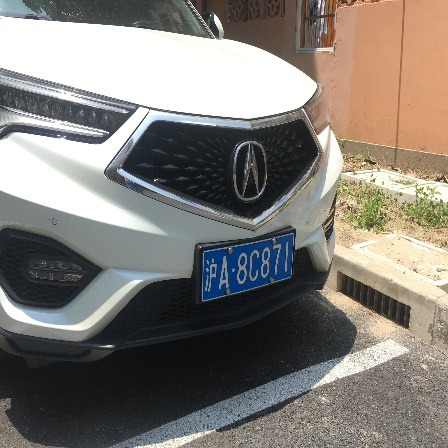plate: (196, 242, 299, 293)
